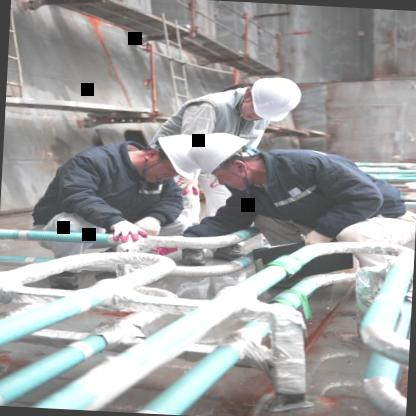helmet: (183, 125, 268, 198), (134, 126, 210, 191), (236, 72, 308, 130)
